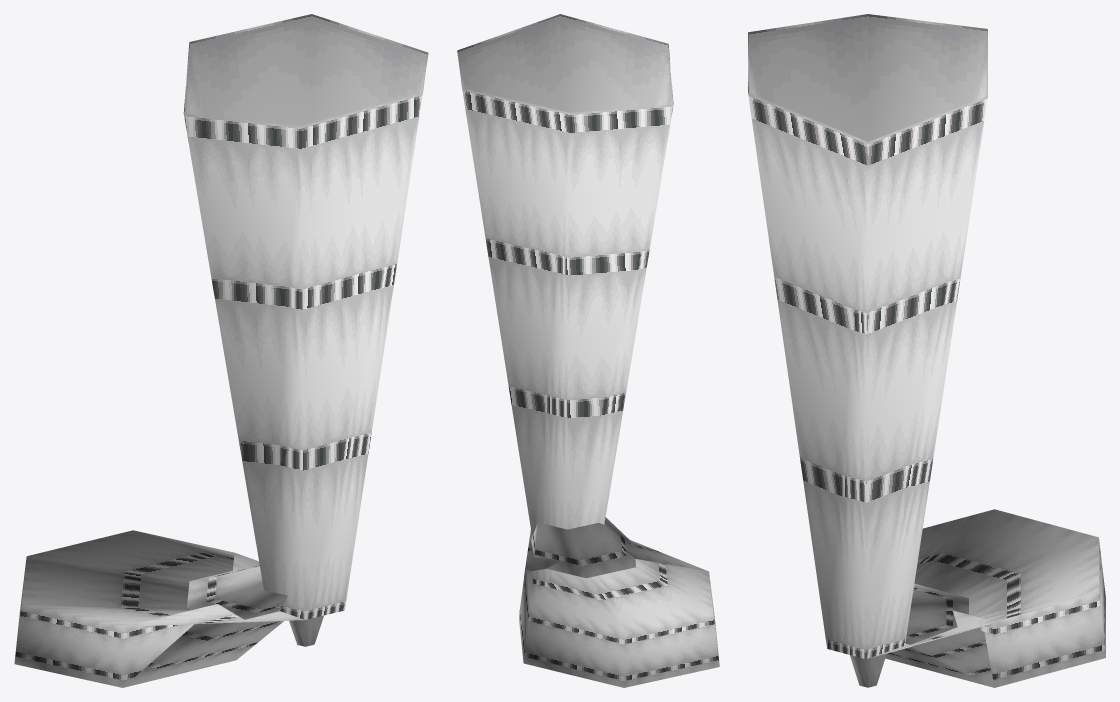
The model's file is sibori_1.gltf.
3 renders of one model, left to right at view 1: azimuth 30°, elevation 25°; view 2: azimuth 150°, elevation 25°; view 3: azimuth 270°, elevation 25°, orthographic. The views are drawn at different scales.
Visible parts, largest first — view 1: sibori_1; view 2: sibori_1; view 3: sibori_1.
Boxes of the visible parts, x1,y1,x2,y2 form: sibori_1: [14, 14, 428, 687]; sibori_1: [457, 14, 719, 687]; sibori_1: [748, 14, 1105, 687].
Bounding box in the file's own units: 0.3865 × 0.6375 × 0.3115.
Materials: 2 (2 with a texture image).
